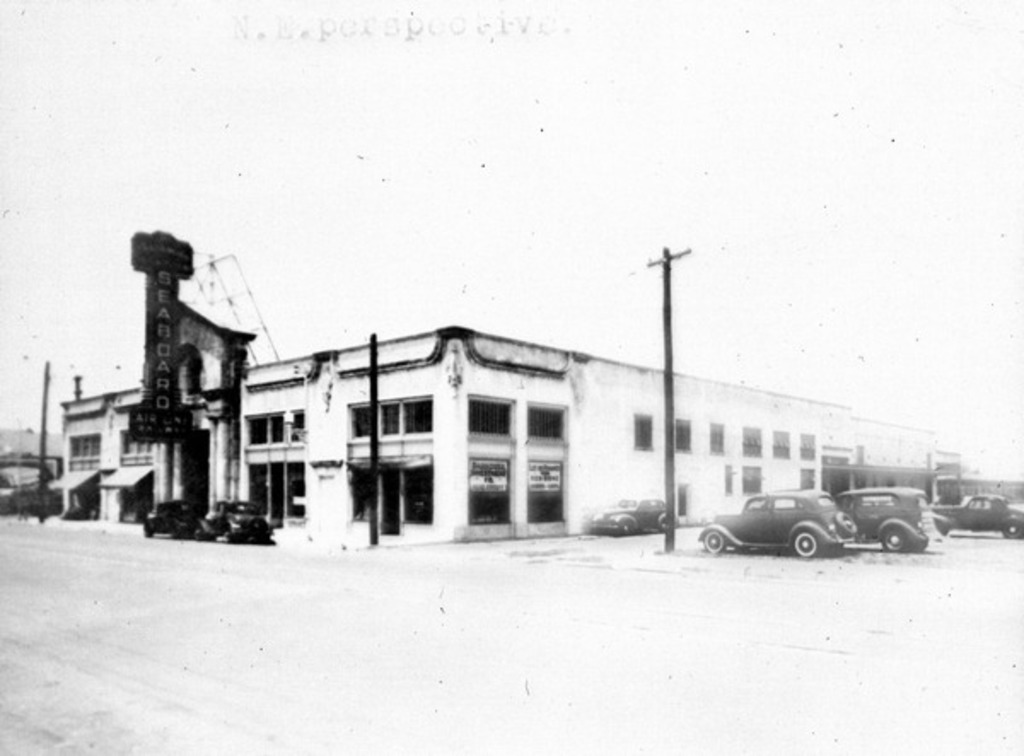Car: (692, 488, 856, 558), (837, 482, 943, 554), (926, 496, 1022, 534), (588, 496, 669, 540), (136, 491, 203, 537), (209, 500, 271, 549)
